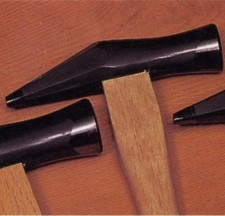hammer: (8, 23, 223, 216)
